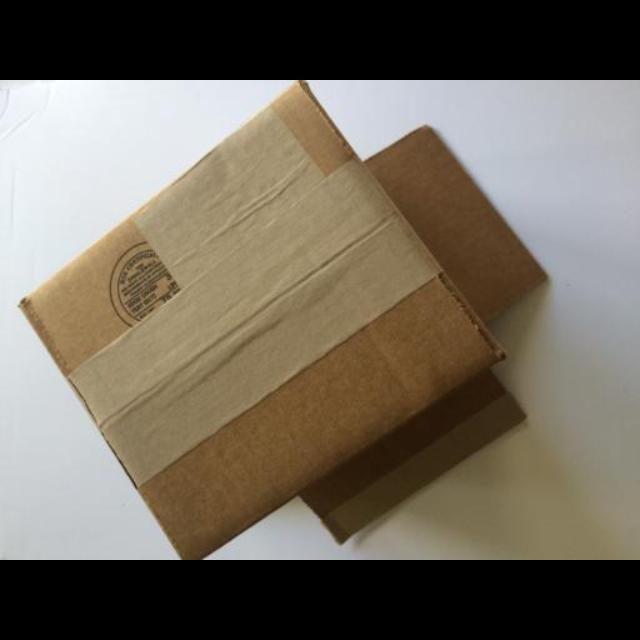papelão: (18, 80, 550, 558)
